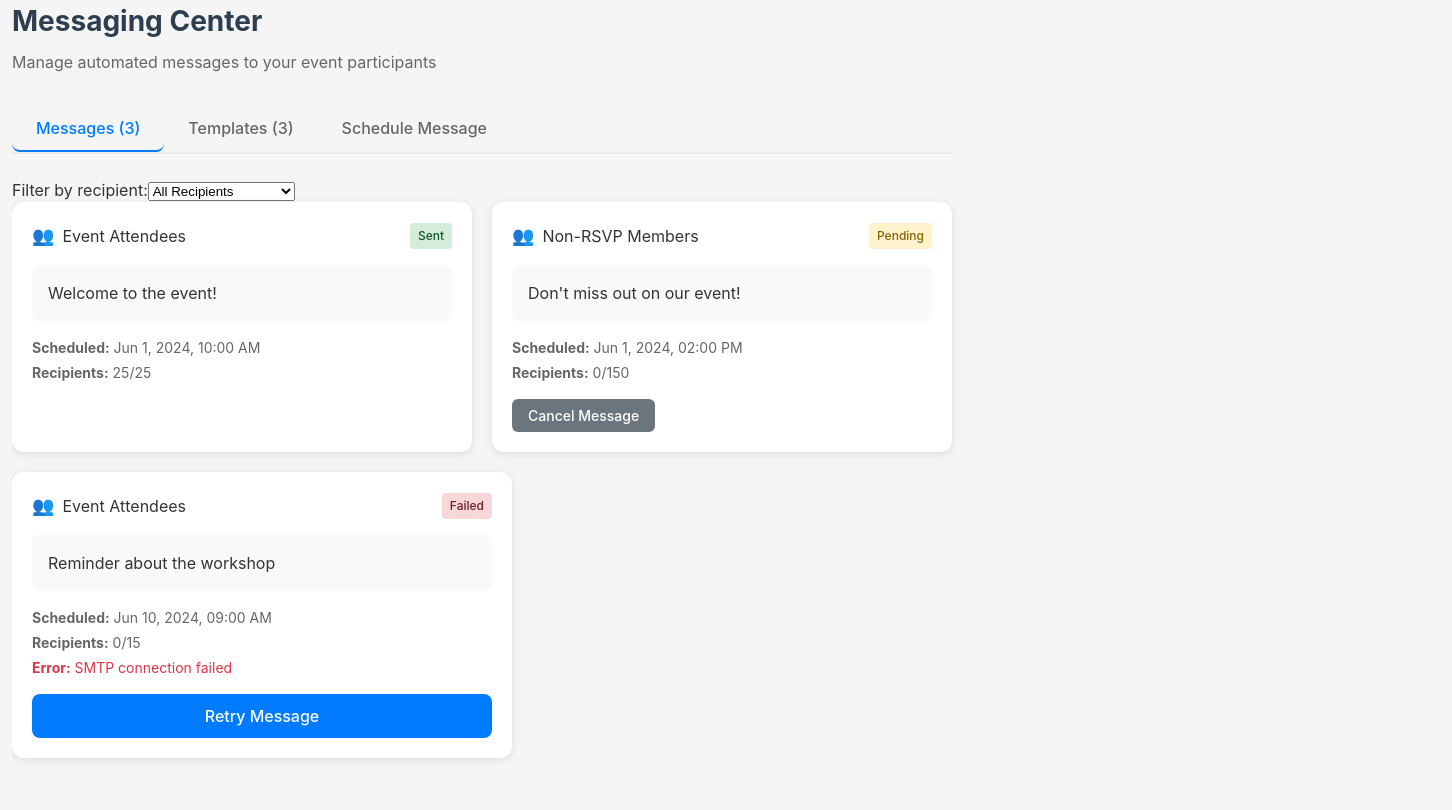
MessagingCenter Component › shows templates tab with template list
Click the button "Templates (3)": point(241, 129) [164,106,318,152]
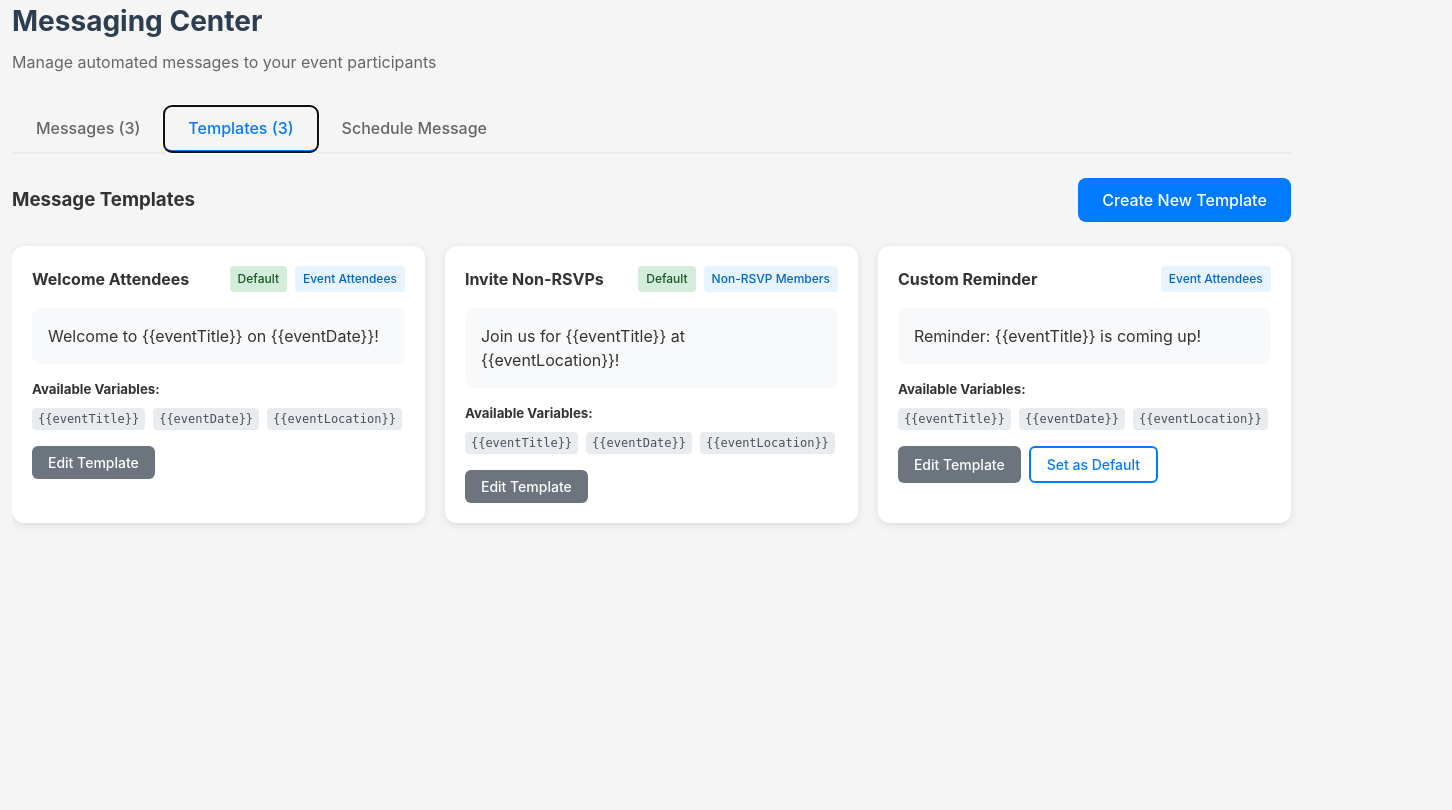
Now the heading "Welcome Attendees" is shown, box [32,267,189,291]
Now the heading "Invite Non-RSVPs" is shown, box [465,267,604,291]
Now the heading "Custom Reminder" is shown, box [898,267,1037,291]
